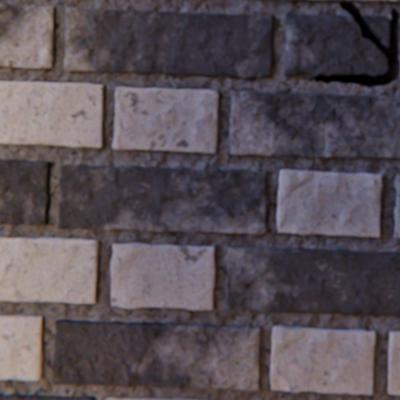brick: (53, 319, 261, 389), (65, 8, 273, 78), (59, 165, 267, 233), (226, 246, 399, 315), (230, 91, 399, 157), (270, 324, 375, 393), (111, 242, 216, 309), (277, 169, 382, 236), (0, 81, 105, 147), (113, 87, 219, 152), (0, 236, 101, 302), (0, 4, 56, 69), (0, 159, 51, 224), (0, 314, 44, 379), (388, 330, 399, 393), (0, 393, 95, 399), (394, 174, 399, 236), (106, 396, 208, 399), (309, 0, 399, 2)
broken_brick: (285, 13, 387, 77), (363, 16, 389, 47)
crack: (315, 1, 399, 86)
